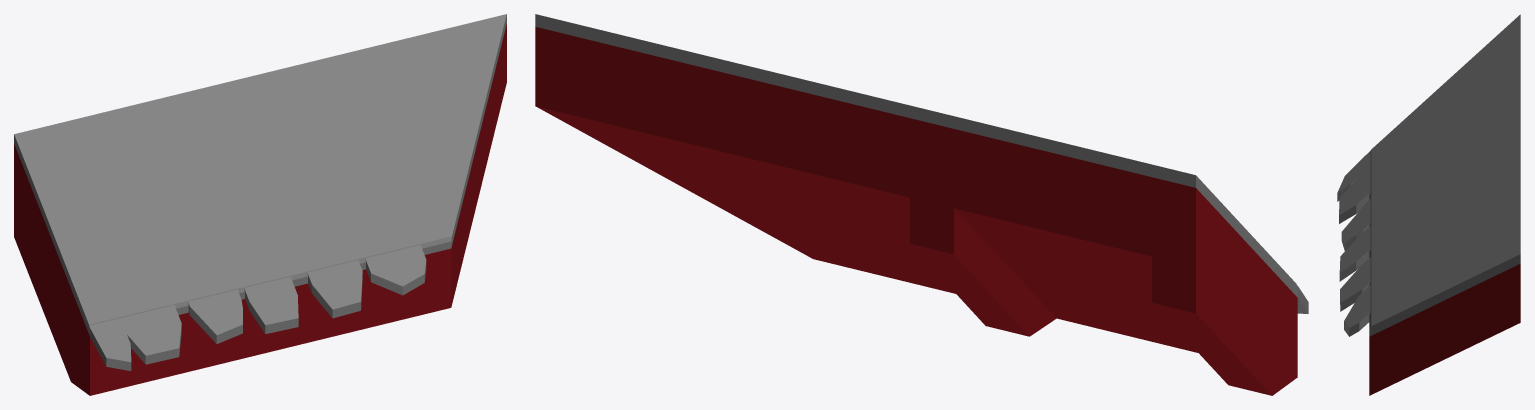
Rendered from SM_MH_01_Slate_Roof_End_Half_Slope_R_01.fbx.
3 views of the same model, side by side, from view 1: azimuth 30°, elevation 25°; view 2: azimuth 150°, elevation 25°; view 3: azimuth 270°, elevation 25° (orthographic). The views are drawn at different scales.
Parts seen in each view (by area): view 1: SM_MH_01_Slate_Roof_End_Half_Slope_R_01_LOD0; view 2: SM_MH_01_Slate_Roof_End_Half_Slope_R_01_LOD0; view 3: SM_MH_01_Slate_Roof_End_Half_Slope_R_01_LOD0.
Part boxes in pixels (box(x1,y1,x2,y2)): SM_MH_01_Slate_Roof_End_Half_Slope_R_01_LOD0: box(14, 14, 506, 395); SM_MH_01_Slate_Roof_End_Half_Slope_R_01_LOD0: box(535, 14, 1308, 395); SM_MH_01_Slate_Roof_End_Half_Slope_R_01_LOD0: box(1337, 14, 1520, 395).
Size of what is drawn, in the model's own units: 150 by 60 by 48.46.
